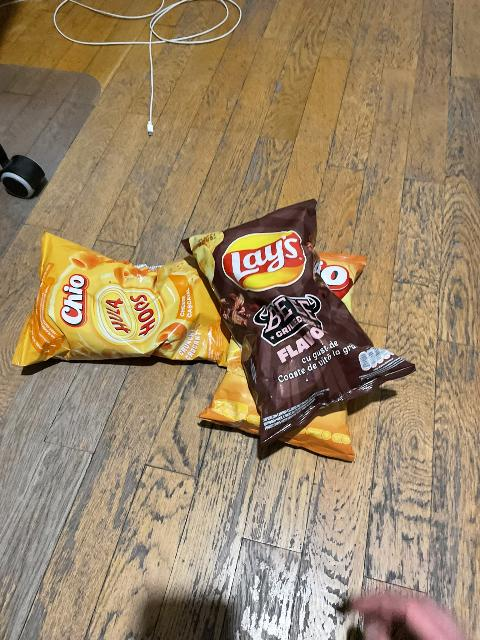Chio Cascaval 125g: (197, 249, 372, 462)
Chio Hula Hoops Cheese 70g: (13, 231, 226, 363)
Lays Beef Grilled Ribs 125g: (179, 198, 417, 459)
